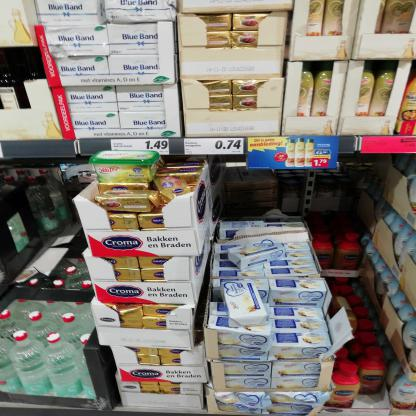prtg: (185, 139, 245, 155), (111, 140, 170, 156), (362, 138, 416, 154)
